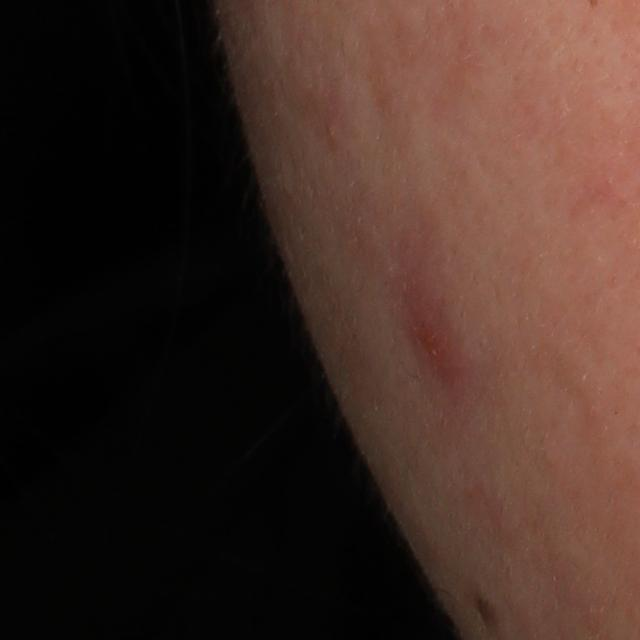papule: (402, 289, 469, 382)
